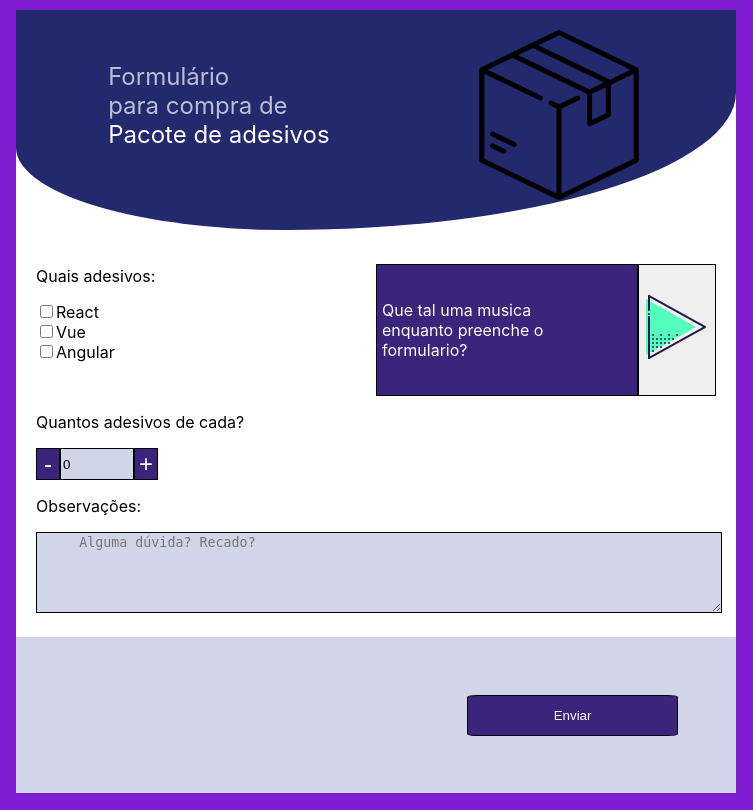
Test: Testa MusicCard e MusicChoice › testa se ao clicar no closeMusicsButton a musicDiv e o musicButton são renderizados e o closeMusicsButton e a musicOpitons  não são
Click the button with test id "musicButton" at (677, 330), box left=638, top=264, right=716, bottom=396
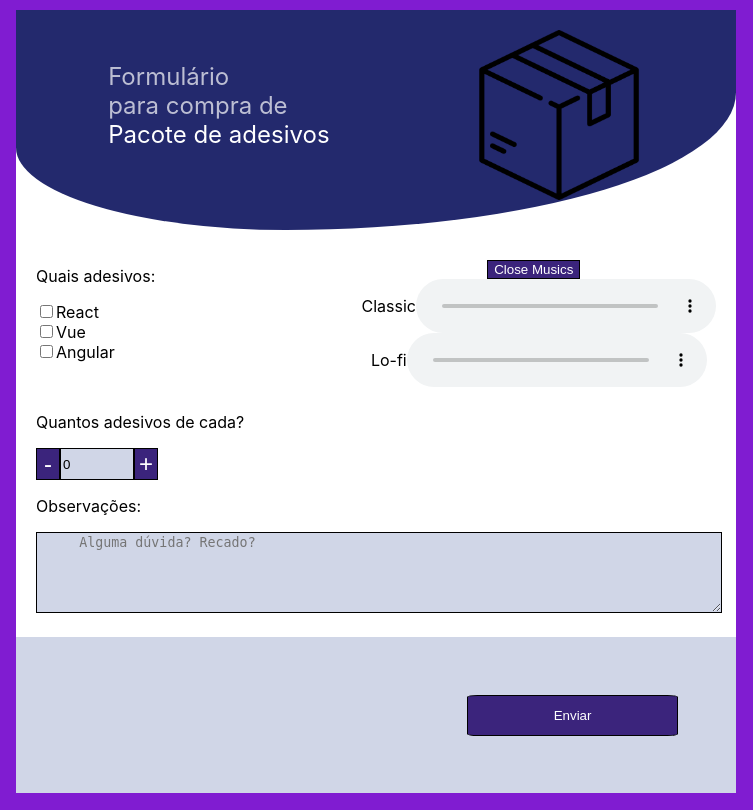
Click the button with test id "closeMusicsButton" at (534, 270), box left=487, top=260, right=580, bottom=279
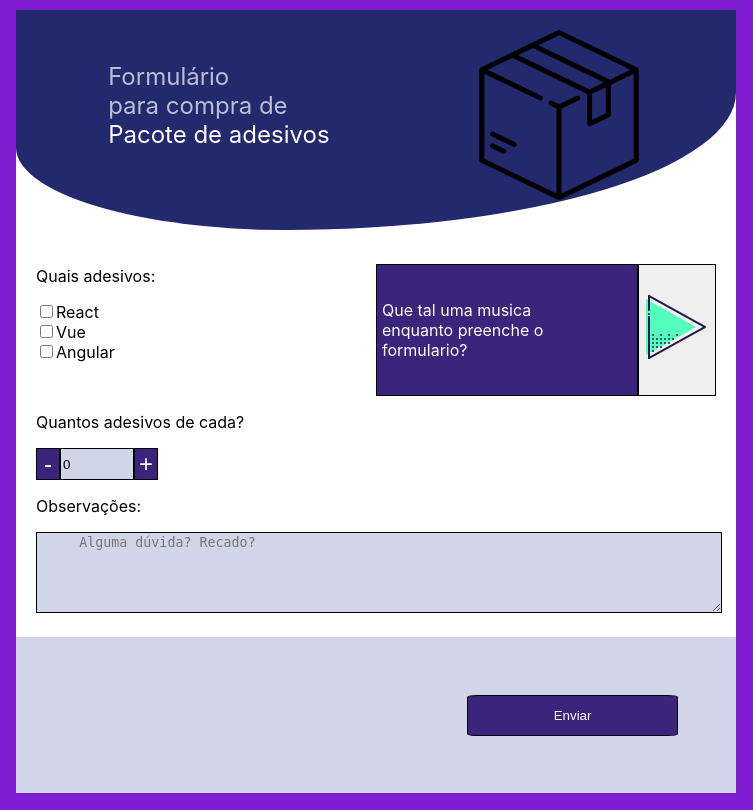
Check: the element with test id "musicDiv" is shown, box left=376, top=250, right=716, bottom=396
Check: the button with test id "musicButton" is shown, box left=638, top=264, right=716, bottom=396
Check: the element with test id "musicOptions" is gone
